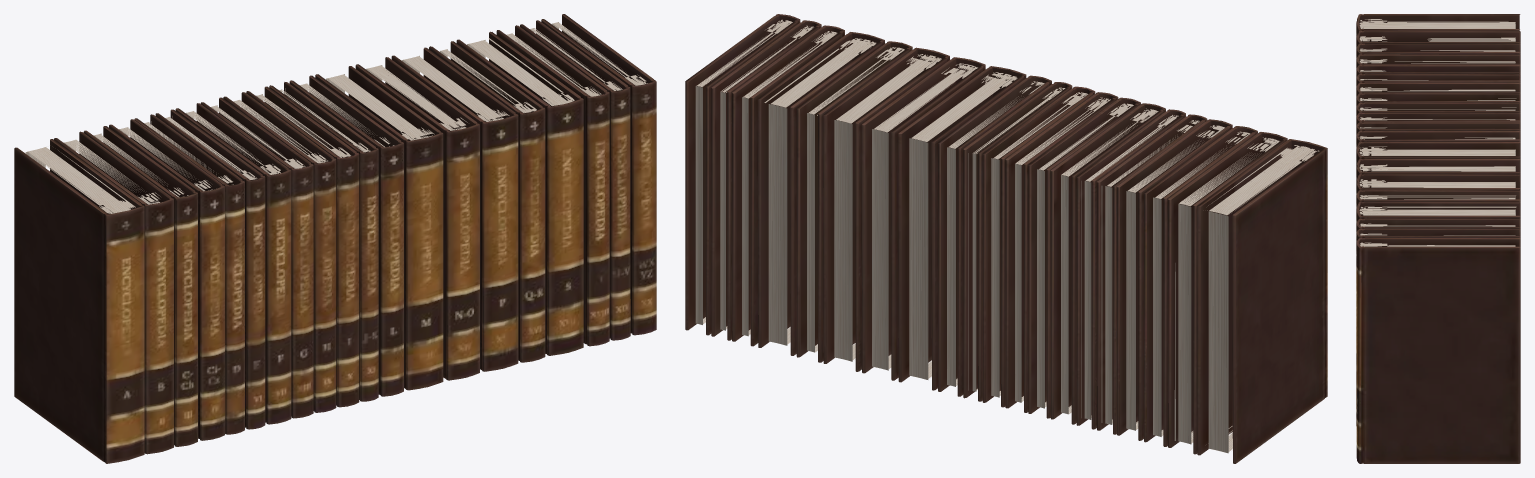
Rendered from book_encyclopedia_set_01.glb.
3 renders of one model, left to right at view 1: azimuth 30°, elevation 25°; view 2: azimuth 150°, elevation 25°; view 3: azimuth 270°, elevation 25°, orthographic. The views are drawn at different scales.
Visible parts, largest first — view 1: book_encyclopedia_set_01_book01, book_encyclopedia_set_01_book13, book_encyclopedia_set_01_book15, book_encyclopedia_set_01_book17, book_encyclopedia_set_01_book14, book_encyclopedia_set_01_book02, book_encyclopedia_set_01_book16, book_encyclopedia_set_01_book04, book_encyclopedia_set_01_book18, book_encyclopedia_set_01_book20, book_encyclopedia_set_01_book07, book_encyclopedia_set_01_book12 (+8 smaller); view 2: book_encyclopedia_set_01_book01, book_encyclopedia_set_01_book13, book_encyclopedia_set_01_book17, book_encyclopedia_set_01_book15, book_encyclopedia_set_01_book14, book_encyclopedia_set_01_book02, book_encyclopedia_set_01_book16, book_encyclopedia_set_01_book04, book_encyclopedia_set_01_book20, book_encyclopedia_set_01_book07, book_encyclopedia_set_01_book18, book_encyclopedia_set_01_book12 (+8 smaller); view 3: book_encyclopedia_set_01_book20, book_encyclopedia_set_01_book17, book_encyclopedia_set_01_book13, book_encyclopedia_set_01_book01, book_encyclopedia_set_01_book15, book_encyclopedia_set_01_book14, book_encyclopedia_set_01_book02, book_encyclopedia_set_01_book16, book_encyclopedia_set_01_book03, book_encyclopedia_set_01_book12, book_encyclopedia_set_01_book04, book_encyclopedia_set_01_book07 (+8 smaller).
Boxes of the visible parts, left/top/right/bottom form: book_encyclopedia_set_01_book01: left=14, top=139, right=144, bottom=463; book_encyclopedia_set_01_book13: left=315, top=66, right=443, bottom=390; book_encyclopedia_set_01_book15: left=391, top=47, right=518, bottom=371; book_encyclopedia_set_01_book17: left=456, top=31, right=583, bottom=355; book_encyclopedia_set_01_book14: left=355, top=57, right=479, bottom=380; book_encyclopedia_set_01_book02: left=54, top=131, right=173, bottom=454; book_encyclopedia_set_01_book16: left=429, top=41, right=545, bottom=362; book_encyclopedia_set_01_book04: left=109, top=119, right=224, bottom=440; book_encyclopedia_set_01_book18: left=496, top=25, right=609, bottom=346; book_encyclopedia_set_01_book20: left=541, top=14, right=656, bottom=335; book_encyclopedia_set_01_book07: left=175, top=103, right=291, bottom=424; book_encyclopedia_set_01_book12: left=289, top=75, right=403, bottom=396; book_encyclopedia_set_01_book01: left=1197, top=139, right=1327, bottom=463; book_encyclopedia_set_01_book13: left=898, top=66, right=1026, bottom=390; book_encyclopedia_set_01_book17: left=757, top=32, right=884, bottom=355; book_encyclopedia_set_01_book15: left=823, top=47, right=949, bottom=371; book_encyclopedia_set_01_book14: left=861, top=57, right=985, bottom=380; book_encyclopedia_set_01_book02: left=1168, top=132, right=1287, bottom=454; book_encyclopedia_set_01_book16: left=796, top=41, right=912, bottom=362; book_encyclopedia_set_01_book04: left=1117, top=119, right=1232, bottom=440; book_encyclopedia_set_01_book20: left=685, top=14, right=800, bottom=335; book_encyclopedia_set_01_book07: left=1050, top=103, right=1165, bottom=424; book_encyclopedia_set_01_book18: left=732, top=25, right=844, bottom=346; book_encyclopedia_set_01_book12: left=938, top=75, right=1051, bottom=396; book_encyclopedia_set_01_book20: left=1356, top=238, right=1520, bottom=463; book_encyclopedia_set_01_book17: left=1356, top=202, right=1520, bottom=425; book_encyclopedia_set_01_book13: left=1356, top=142, right=1520, bottom=189; book_encyclopedia_set_01_book01: left=1356, top=14, right=1520, bottom=35; book_encyclopedia_set_01_book15: left=1356, top=174, right=1520, bottom=194; book_encyclopedia_set_01_book14: left=1356, top=159, right=1520, bottom=181; book_encyclopedia_set_01_book02: left=1356, top=30, right=1520, bottom=47; book_encyclopedia_set_01_book16: left=1356, top=190, right=1520, bottom=219; book_encyclopedia_set_01_book03: left=1356, top=43, right=1520, bottom=58; book_encyclopedia_set_01_book12: left=1356, top=131, right=1520, bottom=190; book_encyclopedia_set_01_book04: left=1356, top=54, right=1520, bottom=77; book_encyclopedia_set_01_book07: left=1356, top=82, right=1520, bottom=97.
Size of the model in its own units: 0.5513 by 0.2374 by 0.1636.
Materials: 2 (2 with a texture image).
